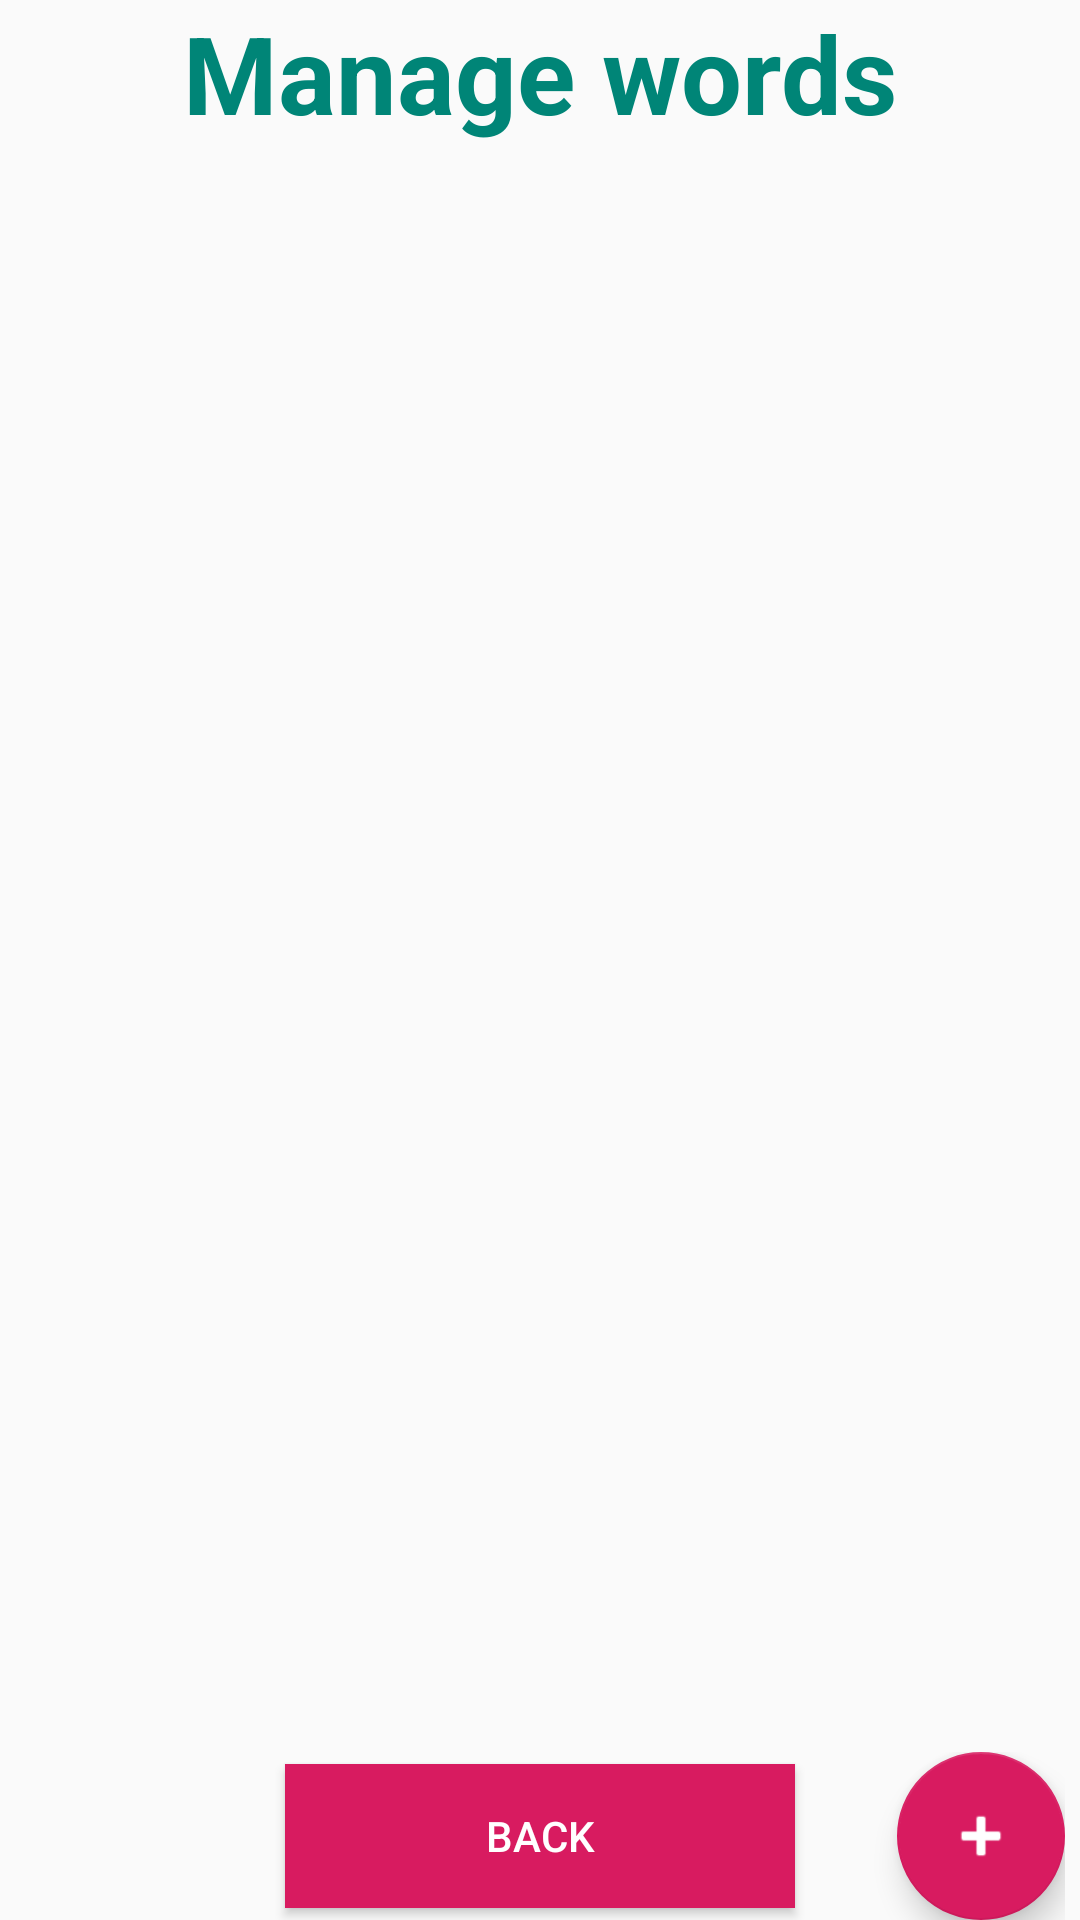

Icon click points for this 1080 x 1920 phone screenshot, format point (x, y):
add: point (981, 1836)
